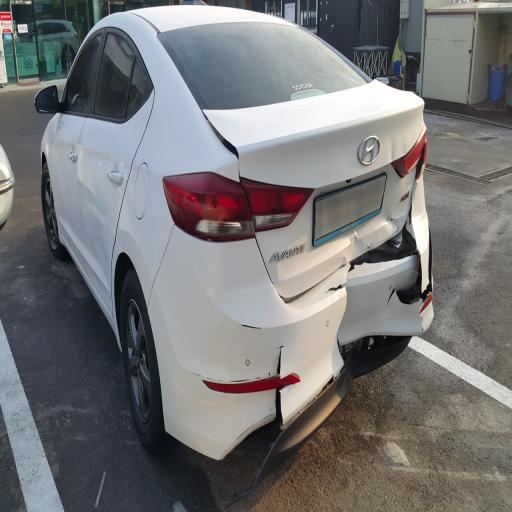broken: (208, 83, 450, 421)
